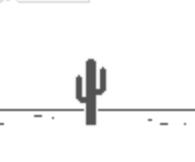t-rex: (71, 54, 110, 129)
